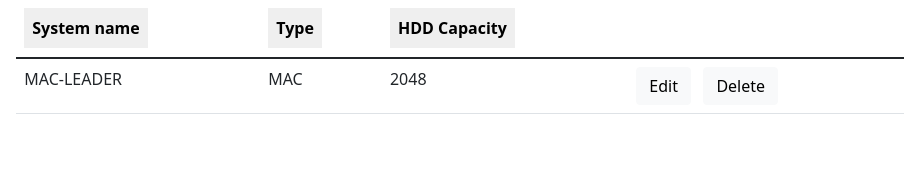
Test: DevicesTable › should display modal when click on Edit button
This screenshot has width=921, height=194.
Click the button "Edit" at (664, 86), box [636, 67, 691, 105]
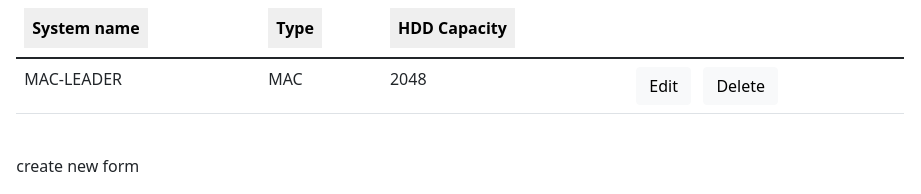
Expected: the text "create new form" is shown, [16, 155, 139, 177]
